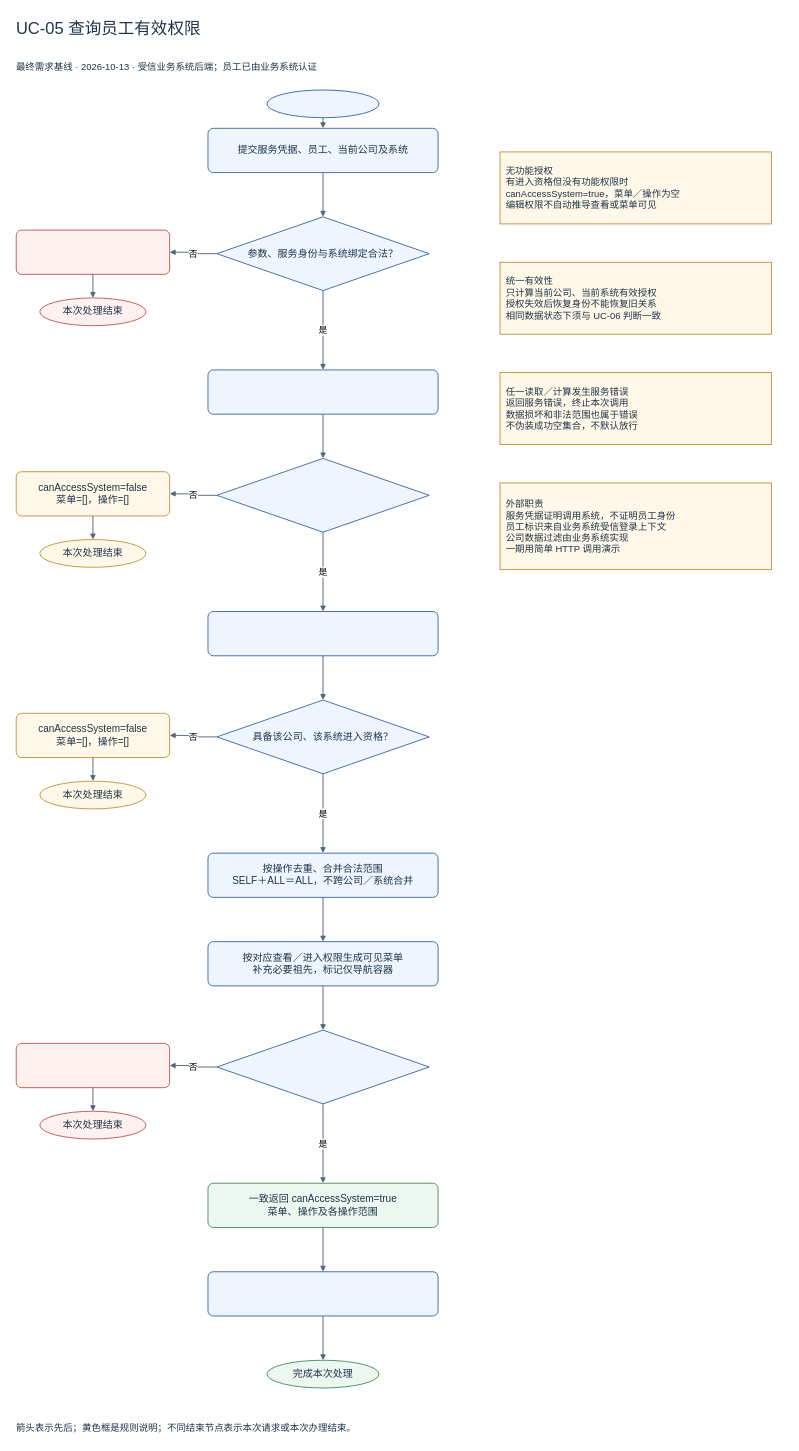
The diagram is 799 pixels wide and 1451 high, and some of its shapes have lost their labels. The shapes that lost their labels are listed below. From the top down, each one's centre as x and y in pixels, then its label:
(x=322, y=103): 开始
(x=93, y=252): 返回调用错误，不返回正常授权结果
(x=322, y=391): 读取员工、公司及当前任职状态
(x=322, y=495): 员工／公司有效且有该公司有效任职？
(x=322, y=633): 一致读取当前公司、系统的有效角色 排除失效关系、未生效角色及无效目录
(x=93, y=1065): 返回服务错误 不默认放行或假成功空结果
(x=322, y=1066): 授权读取、目录及范围计算正常完成？
(x=322, y=1293): 业务系统映射功能入口 实施公司数据隔离及 SELF 过滤
